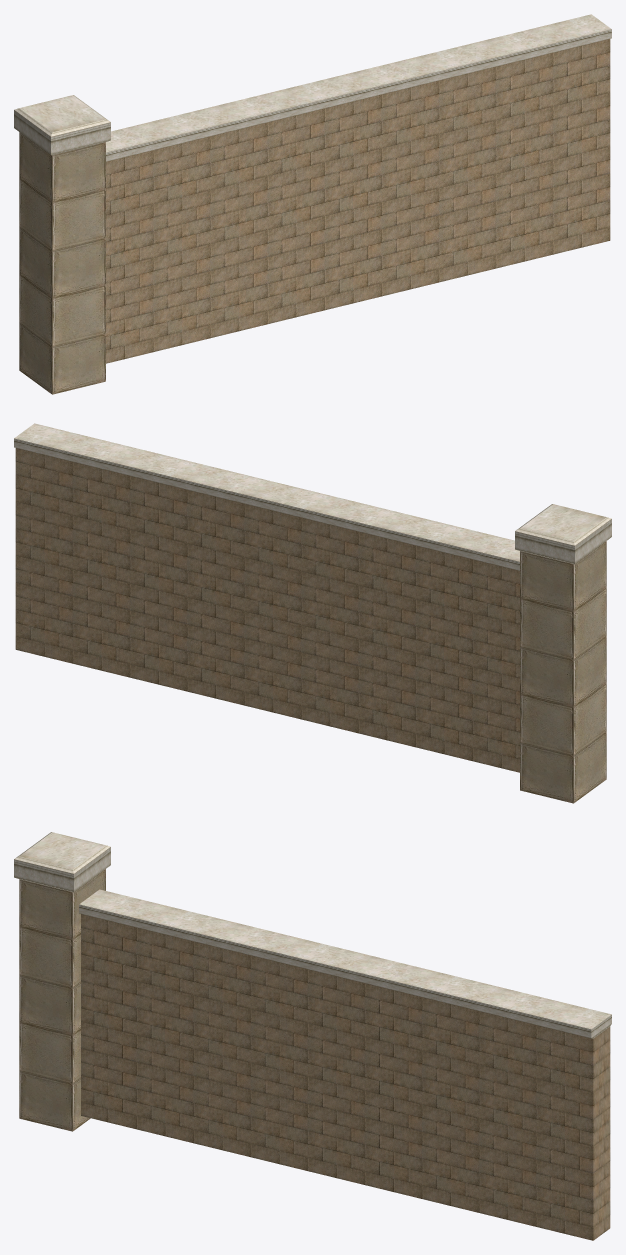
File: thm_nboo_thed_imprv_wall_s01_a1_l1.fbx
3 renders of one model, top to bottom at view 1: azimuth 30°, elevation 25°; view 2: azimuth 150°, elevation 25°; view 3: azimuth 330°, elevation 25°, orthographic.
Parts seen in each view (by area): view 1: mesh_node; view 2: mesh_node; view 3: mesh_node.
Part boxes in pixels (x1,y1,x2,y2): mesh_node: (14,14,611,394); mesh_node: (14,423,611,803); mesh_node: (14,832,611,1240).
Size of the model in its own units: 21.58 by 9.5 by 2.43.
1 material, 1 textured.
